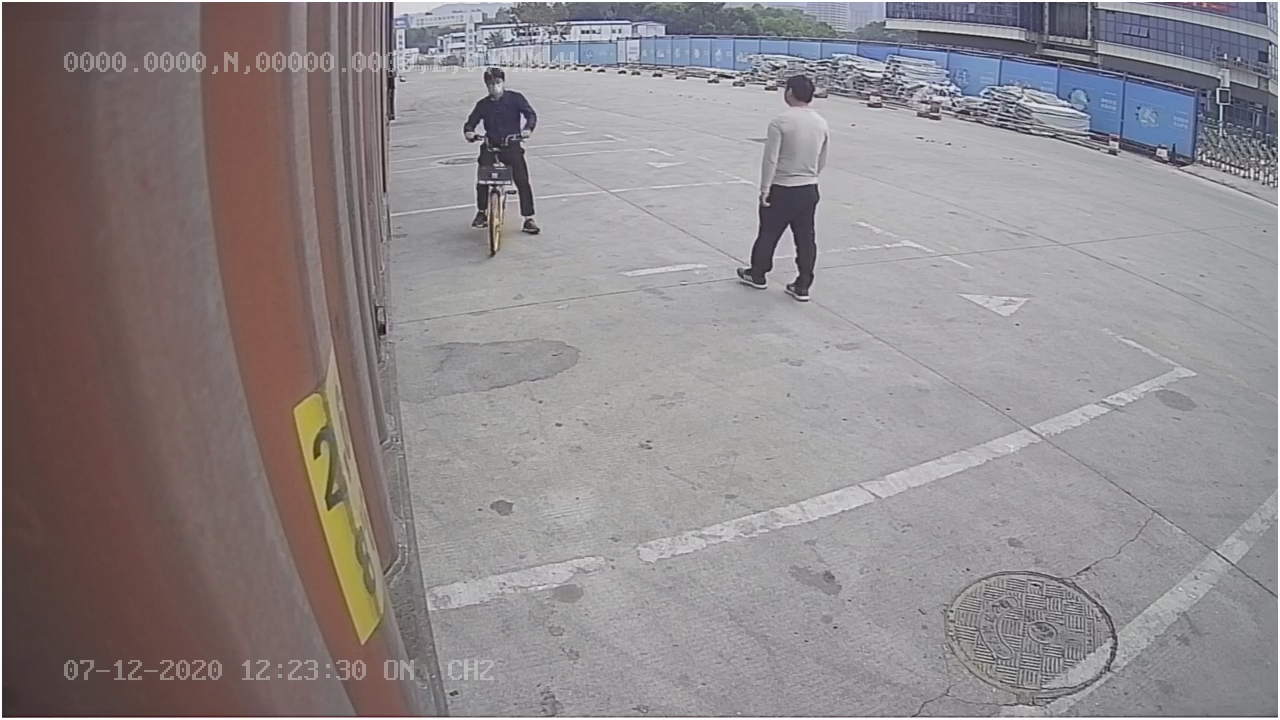person: (733, 71, 829, 302)
